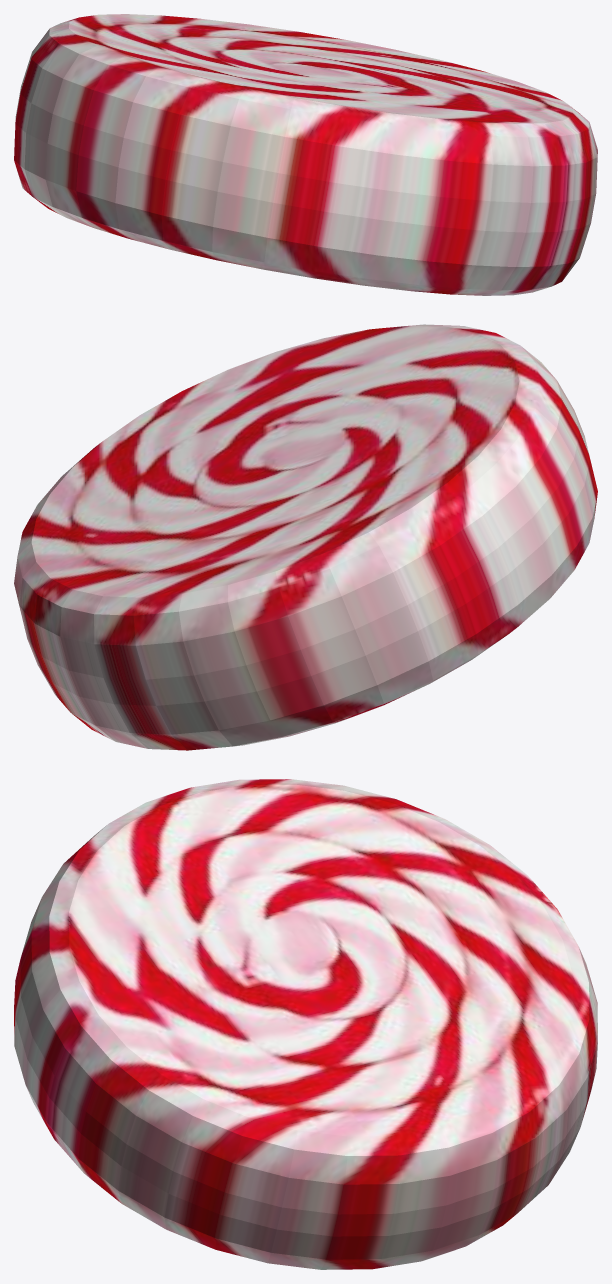
The model's file is Zaeltli-Spirale-CW.003.gltf.
The picture shows the model from 3 angles, top to bottom: view 1: azimuth 30°, elevation 25°; view 2: azimuth 150°, elevation 25°; view 3: azimuth 270°, elevation 25°; orthographic projection.
Parts seen in each view (by area): view 1: Zaeltli-Spirale-CW.003; view 2: Zaeltli-Spirale-CW.003; view 3: Zaeltli-Spirale-CW.003.
Part boxes in pixels (<box>): Zaeltli-Spirale-CW.003: <box>14,14,597,295</box>; Zaeltli-Spirale-CW.003: <box>14,324,597,750</box>; Zaeltli-Spirale-CW.003: <box>14,779,597,1269</box>.
Bounding box in the file's own units: 0.9906 × 0.5813 × 0.9948.
Materials: 1 (1 with a texture image).
